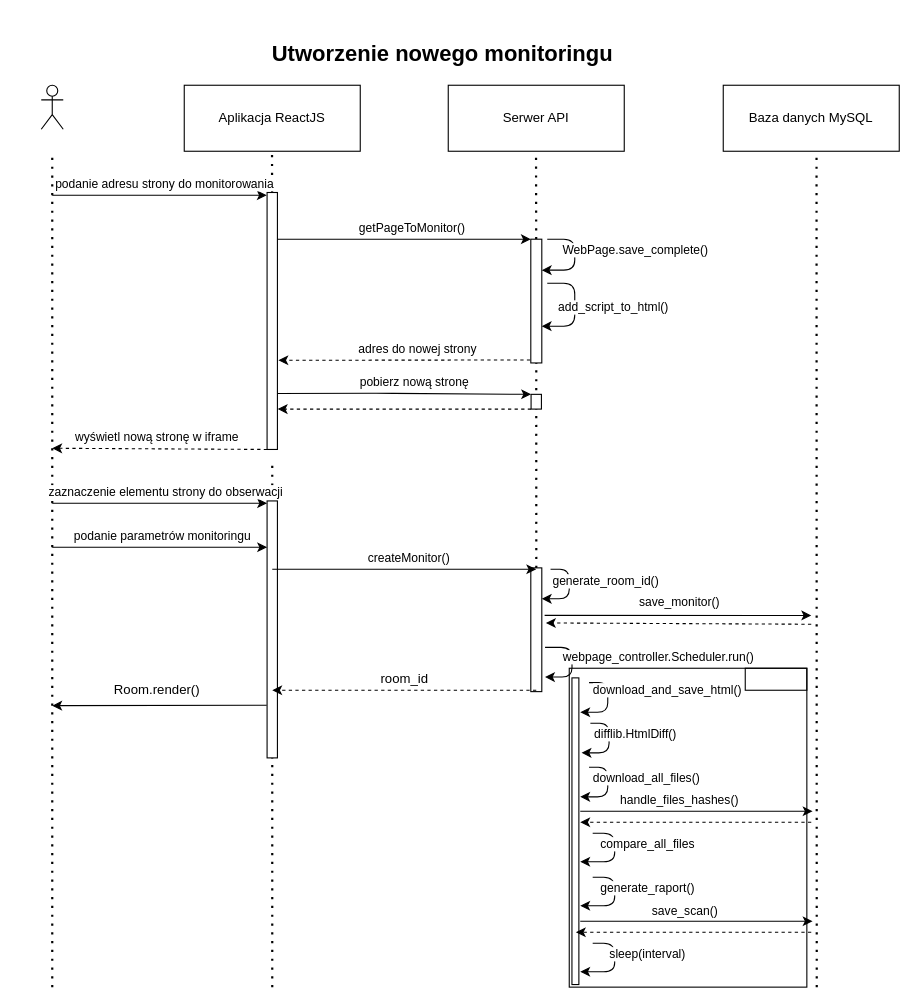
The diagram is 919 pixels wide and 1008 high, and some of its shapes have lost their labels. Each missing label, with the centre of its shape:
nowy wątek: the point at 775,678
Użytkownik: the point at 51,106
